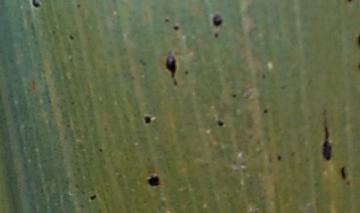tarspot: (319, 103, 333, 162), (163, 49, 179, 88), (144, 174, 161, 188), (210, 11, 224, 27), (339, 165, 347, 182), (142, 112, 152, 125), (215, 117, 225, 130), (29, 1, 41, 10), (86, 193, 99, 201), (355, 31, 360, 49), (137, 57, 146, 66), (261, 107, 270, 115), (210, 31, 218, 40), (67, 33, 75, 41), (172, 23, 180, 31), (162, 17, 171, 24), (356, 57, 360, 72), (181, 69, 189, 76), (288, 149, 296, 156), (97, 145, 103, 154), (275, 153, 281, 161), (230, 91, 236, 99), (75, 3, 82, 8), (260, 73, 267, 78), (345, 1, 353, 4)
